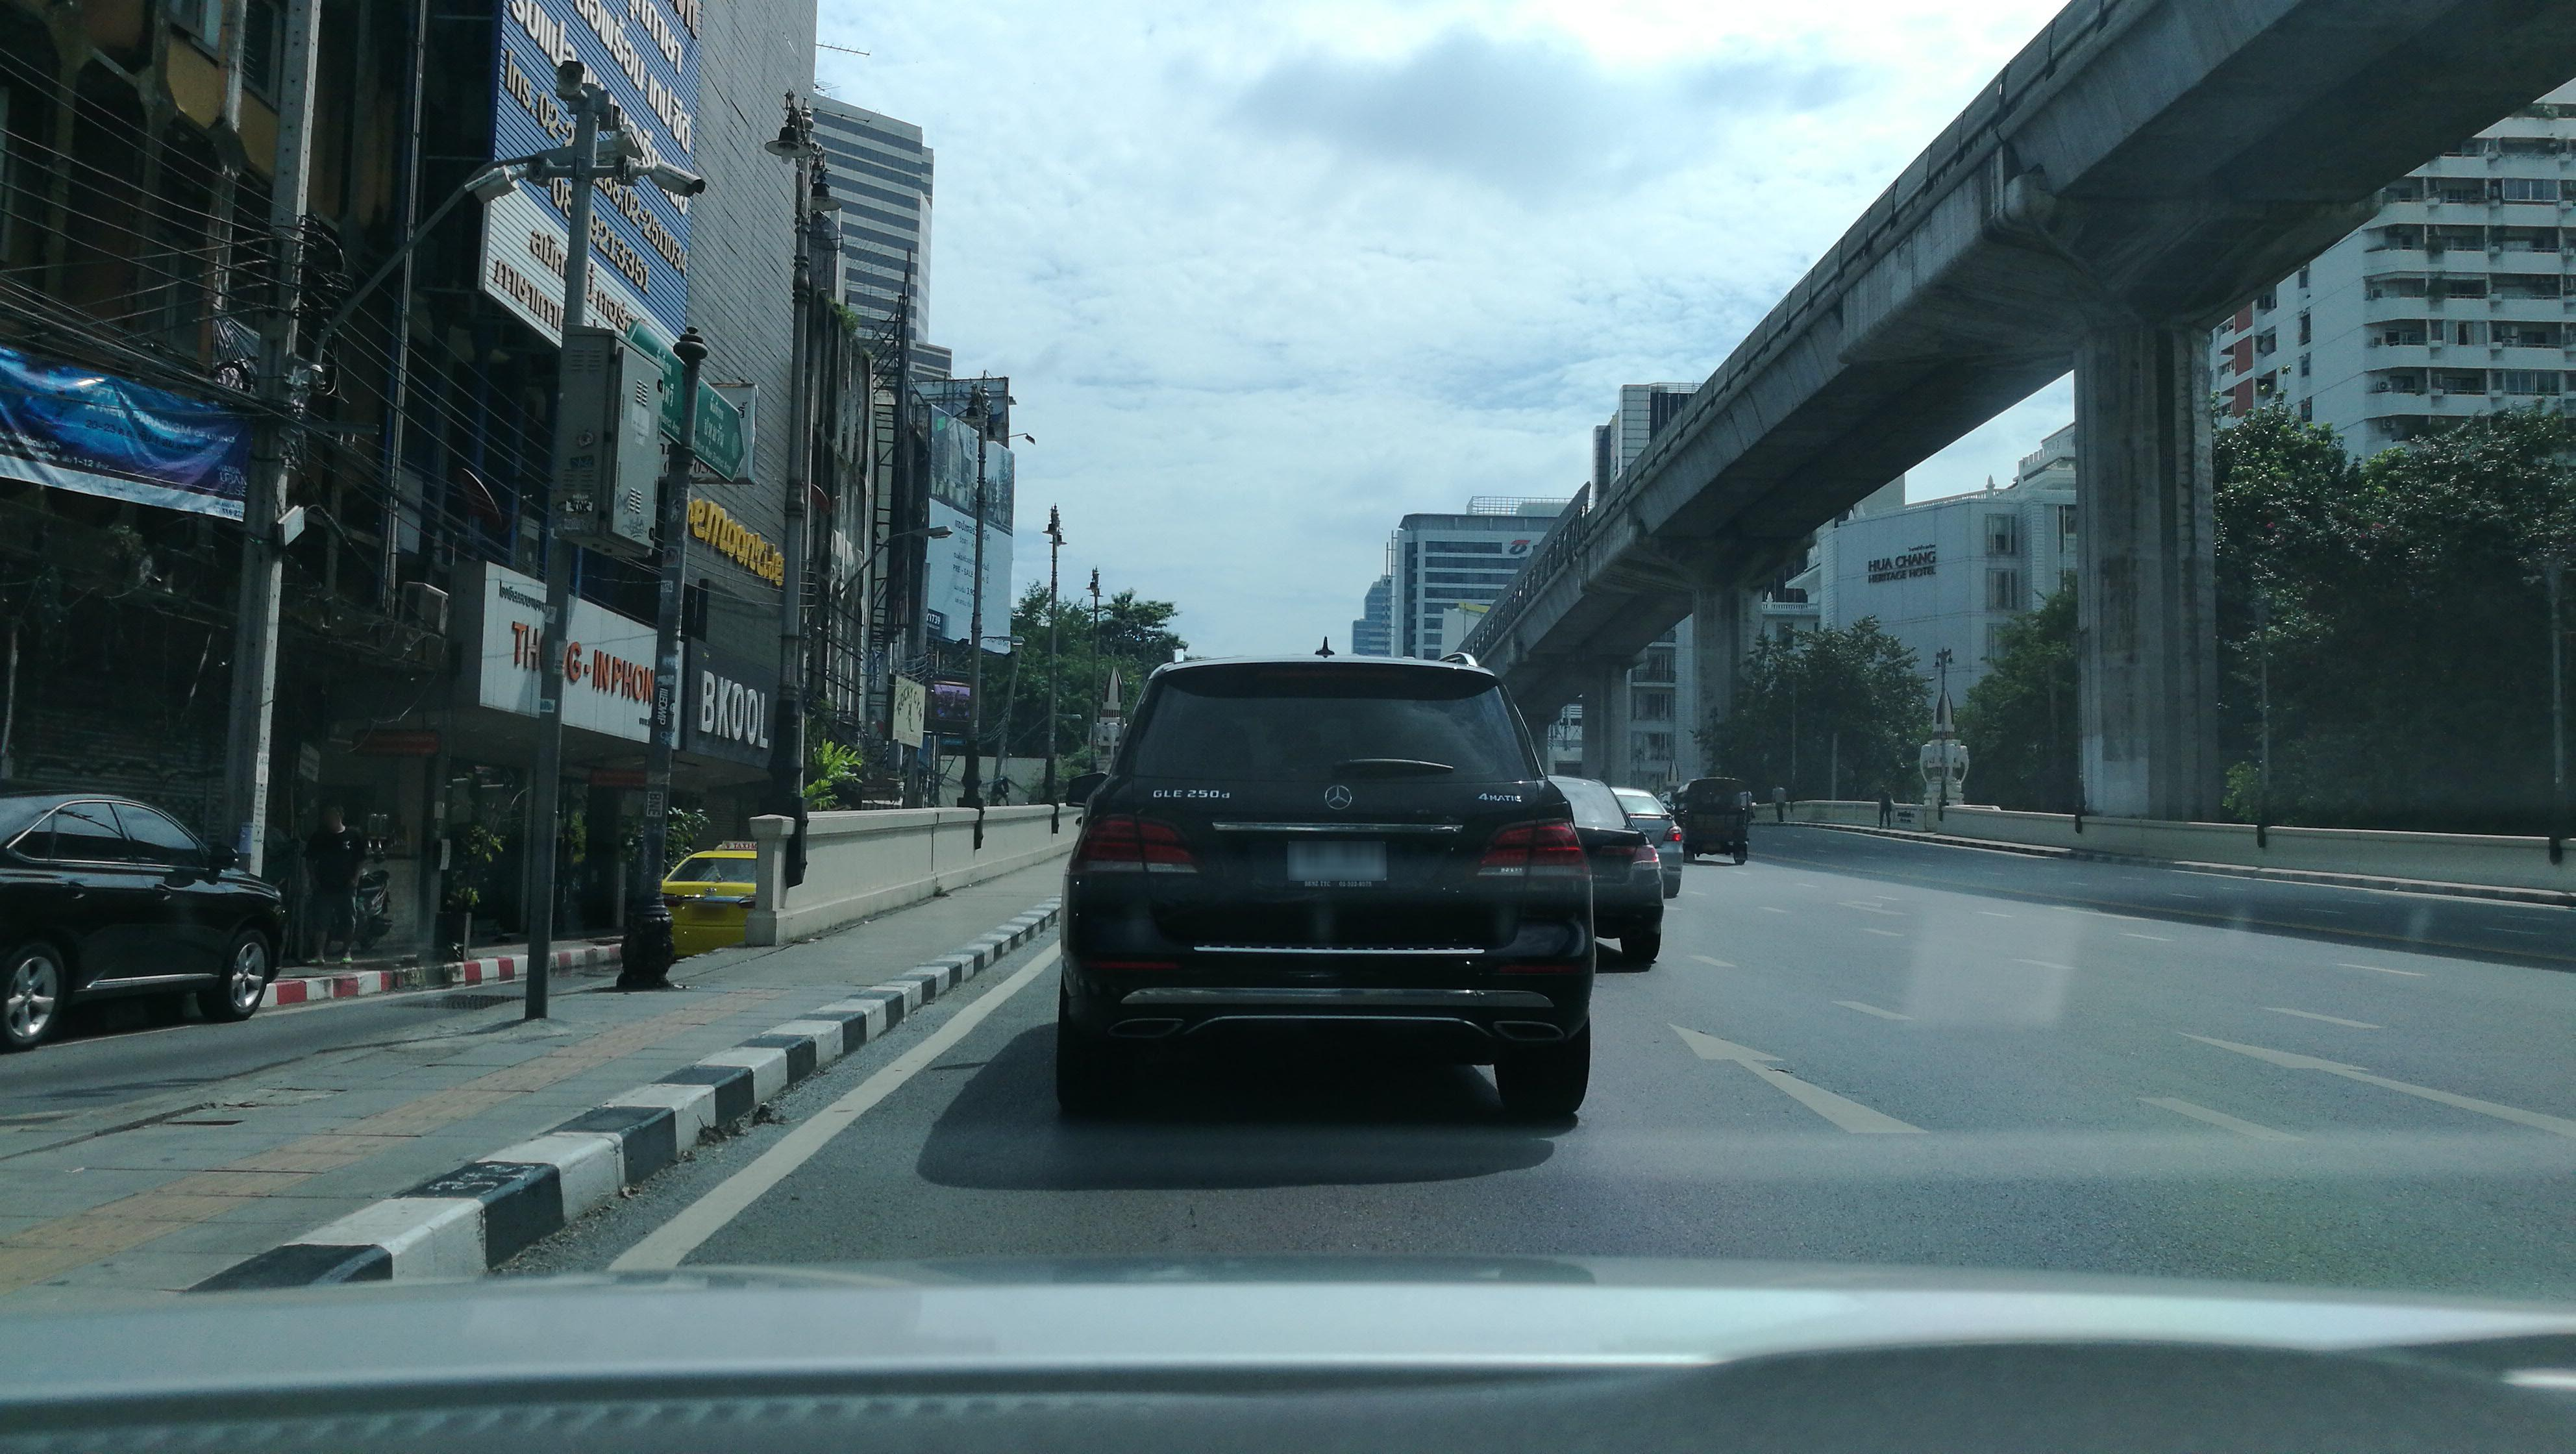vinyl banner: (4, 329, 265, 536)
